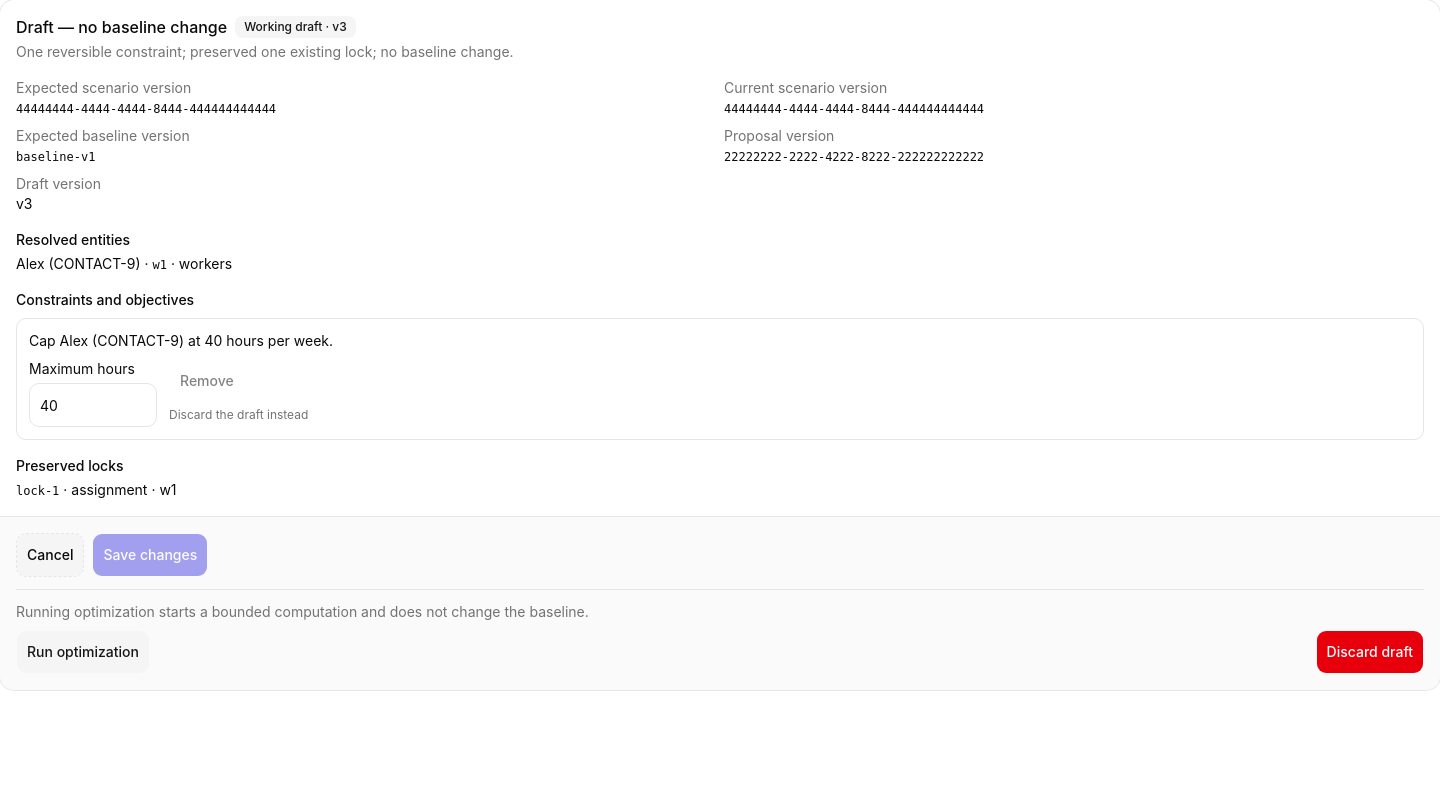
Test: DraftCard — the working draft › Save changes and Cancel › Cancel resets the local edits
Replace the text in the number field labelled "Maximum hours" with "36" at (93, 405), box [29, 383, 157, 427]
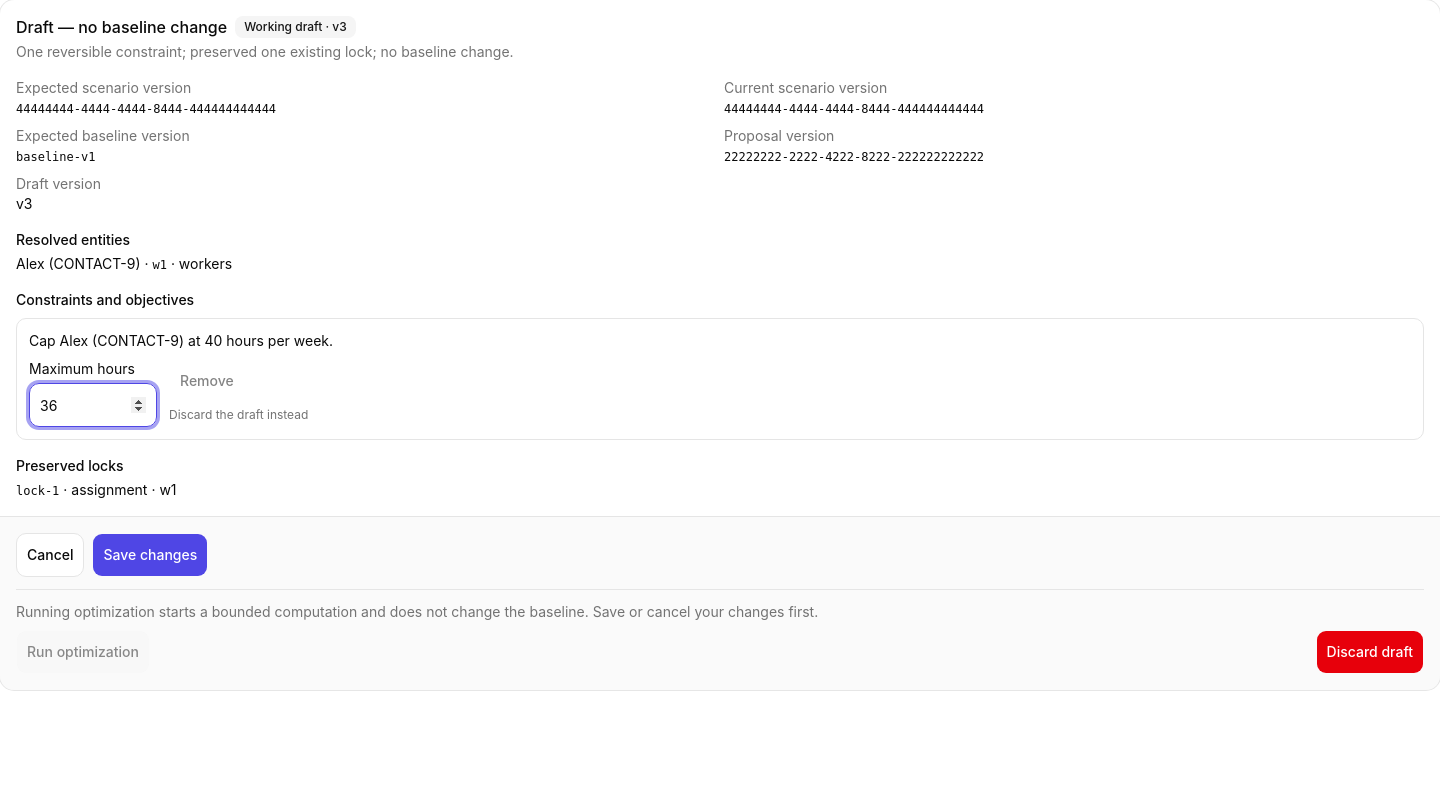
Click the button "Cancel" at (50, 555), box [16, 533, 84, 577]
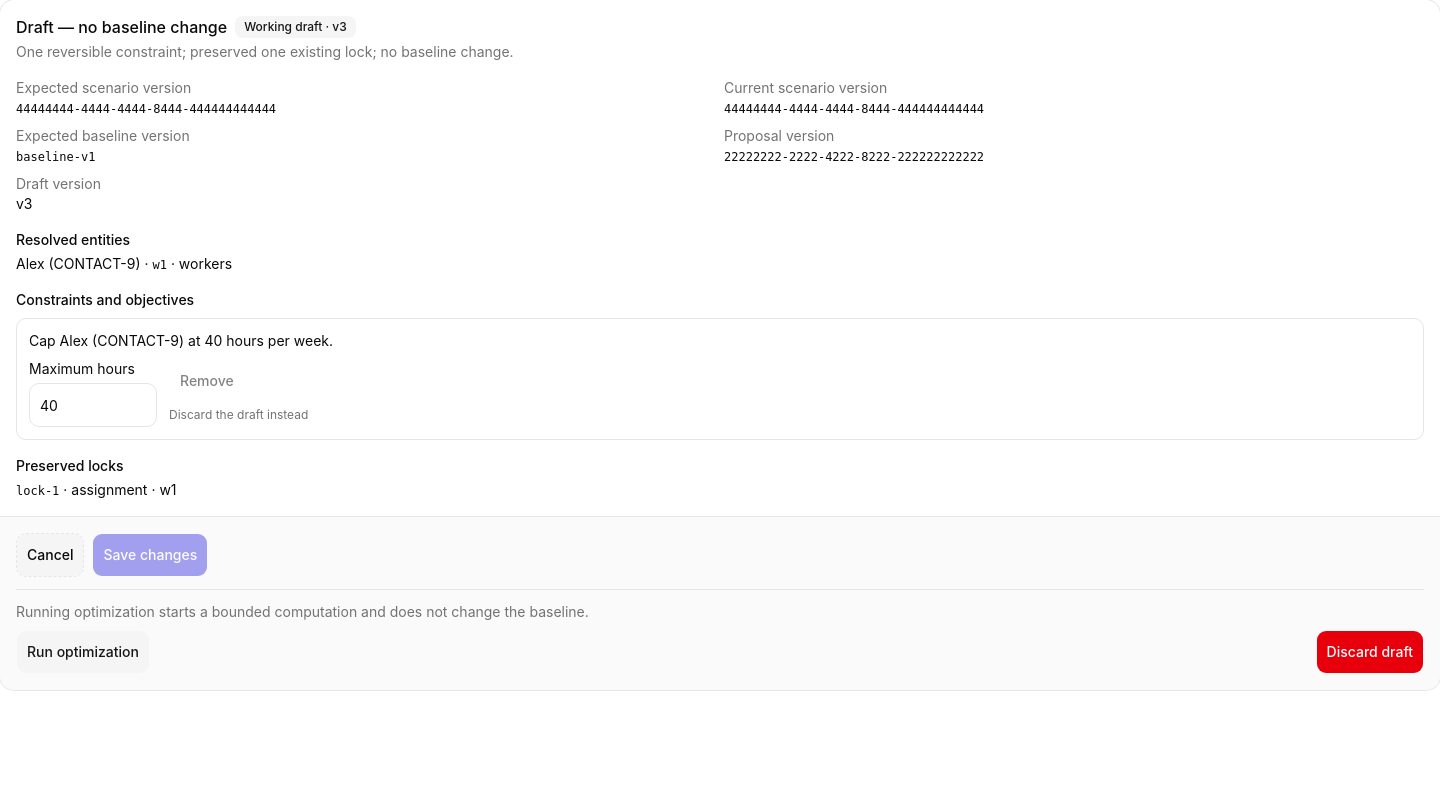
Check: the number field labelled "Maximum hours" holds "40", box [29, 383, 157, 427]
